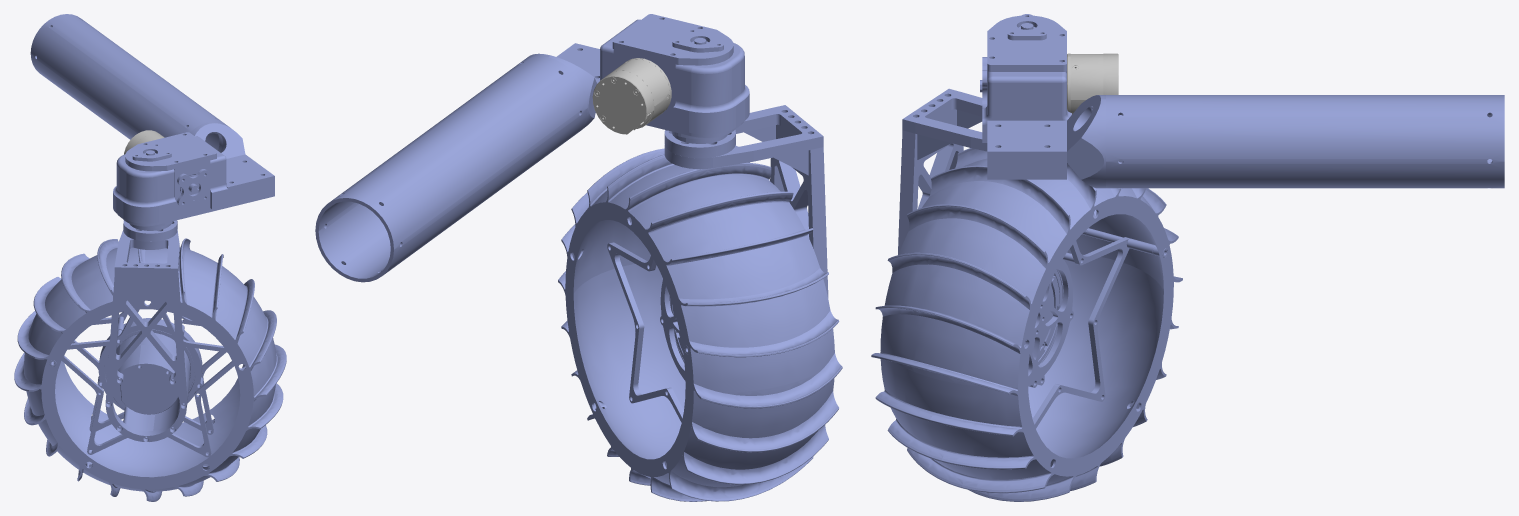
Rendered from swerve.glb.
3 renders of one model, left to right at view 1: azimuth 30°, elevation 25°; view 2: azimuth 150°, elevation 25°; view 3: azimuth 270°, elevation 25°, orthographic. The views are drawn at different scales.
Parts seen in each view (by area): view 1: DR25-TIRE REV1, DR25-ROCKER ARM, S26-WHEEL_MOUNT_V2_LOWER, DR25-SPOKE PLATE (×2), 26S_ENCLOSURE_WHEEL, DR25-DRIVE MOTOR AK70-10, DR25-ROCKER WHEEL MOUNT, DR25-MOTOR MOUNTING RING PRINTED, 26S_PLATE_GEARBOX_TOP, S26-WHEEL_MOUNT_V2_UPPER, S26-BASE_GEARBOX, DR25-WHEEL INNER BEARING CASING (+7 smaller); view 2: DR25-TIRE REV1, DR25-ROCKER ARM, 26S_ENCLOSURE_WHEEL, AK45-10, S26-WHEEL_MOUNT_V2_UPPER, S26-WHEEL_MOUNT_V2_LOWER, 26S_PLATE_GEARBOX_TOP, DR25-SPOKE PLATE, DR25-ROCKER WHEEL MOUNT, 26S_SHAFT_WHEEL, DR25-WHEEL OUTER BEARING CASING, 26S_PLATE_RETAINING_WHEEL (+3 smaller); view 3: DR25-TIRE REV1, DR25-ROCKER ARM, DR25-ROCKER WHEEL MOUNT, 26S_ENCLOSURE_ROCKER, 26S_PLATE_GEARBOX_TOP, S26-WHEEL_MOUNT_V2_LOWER, S26-WHEEL_MOUNT_V2_UPPER, DR25-SPOKE PLATE, DR25-WHEEL OUTER BEARING CASING, AK45-10, S26-BASE_GEARBOX, 26S_PLATE_RETAINING_WHEEL.
Boxes of the visible parts, box(x1,y1,x2,y2) form: DR25-TIRE REV1: box(14, 238, 286, 501); DR25-ROCKER ARM: box(30, 14, 227, 150); S26-WHEEL_MOUNT_V2_LOWER: box(105, 273, 187, 441); DR25-SPOKE PLATE (×2): box(61, 309, 234, 457); 26S_ENCLOSURE_WHEEL: box(113, 154, 176, 223); DR25-DRIVE MOTOR AK70-10: box(113, 333, 190, 414); DR25-ROCKER WHEEL MOUNT: box(190, 121, 274, 194); DR25-MOTOR MOUNTING RING PRINTED: box(118, 344, 189, 431); 26S_PLATE_GEARBOX_TOP: box(125, 132, 216, 171); S26-WHEEL_MOUNT_V2_UPPER: box(114, 230, 179, 276); S26-BASE_GEARBOX: box(117, 184, 274, 226); DR25-WHEEL INNER BEARING CASING: box(97, 321, 202, 410); DR25-TIRE REV1: box(558, 148, 842, 501); DR25-ROCKER ARM: box(315, 56, 587, 282); 26S_ENCLOSURE_WHEEL: box(673, 43, 749, 134); AK45-10: box(592, 58, 671, 134); S26-WHEEL_MOUNT_V2_UPPER: box(664, 105, 823, 169); S26-WHEEL_MOUNT_V2_LOWER: box(770, 124, 828, 297); 26S_PLATE_GEARBOX_TOP: box(612, 14, 733, 65); DR25-SPOKE PLATE: box(607, 242, 683, 422); DR25-ROCKER WHEEL MOUNT: box(523, 43, 599, 133); 26S_SHAFT_WHEEL: box(664, 38, 735, 158); DR25-WHEEL OUTER BEARING CASING: box(660, 279, 685, 380); 26S_PLATE_RETAINING_WHEEL: box(672, 29, 723, 52); DR25-TIRE REV1: box(871, 148, 1182, 501); DR25-ROCKER ARM: box(1106, 95, 1504, 188); DR25-ROCKER WHEEL MOUNT: box(987, 95, 1123, 188); 26S_ENCLOSURE_ROCKER: box(982, 71, 1071, 142); 26S_PLATE_GEARBOX_TOP: box(987, 15, 1066, 71); S26-WHEEL_MOUNT_V2_LOWER: box(898, 109, 963, 254); S26-WHEEL_MOUNT_V2_UPPER: box(902, 88, 987, 151); DR25-SPOKE PLATE: box(1032, 237, 1130, 428); DR25-WHEEL OUTER BEARING CASING: box(1024, 259, 1073, 387); AK45-10: box(1067, 53, 1118, 114); S26-BASE_GEARBOX: box(987, 163, 1066, 179); 26S_PLATE_RETAINING_WHEEL: box(1007, 14, 1046, 40).
Bounding box in the file's own units: 294 × 414 × 516.
